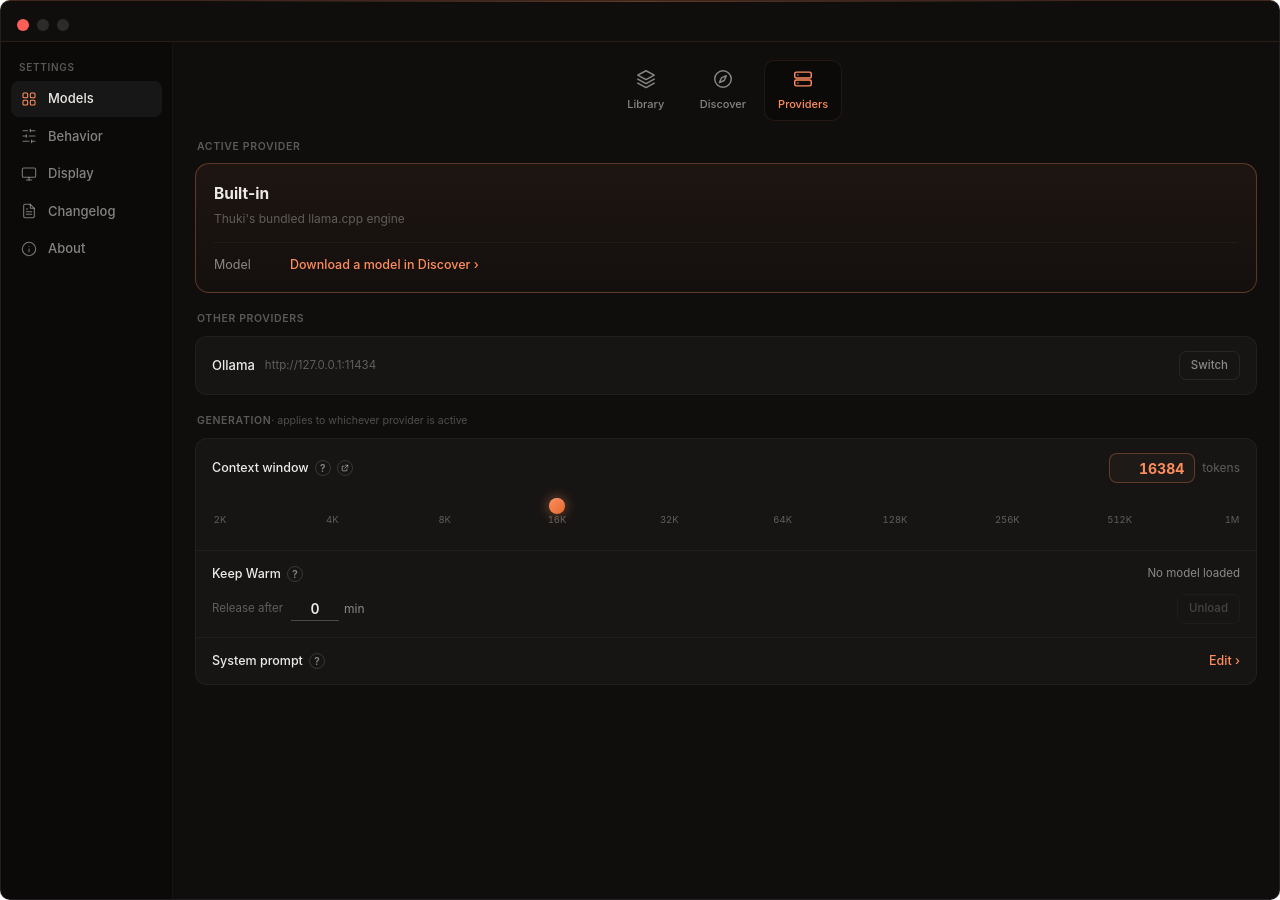
it: SettingsWindow › opens Discover without crashing the Settings window
Expected: the tab "Models" is shown, [11, 81, 162, 116]
Click the tab "Discover" at [723, 90], box [686, 60, 760, 120]
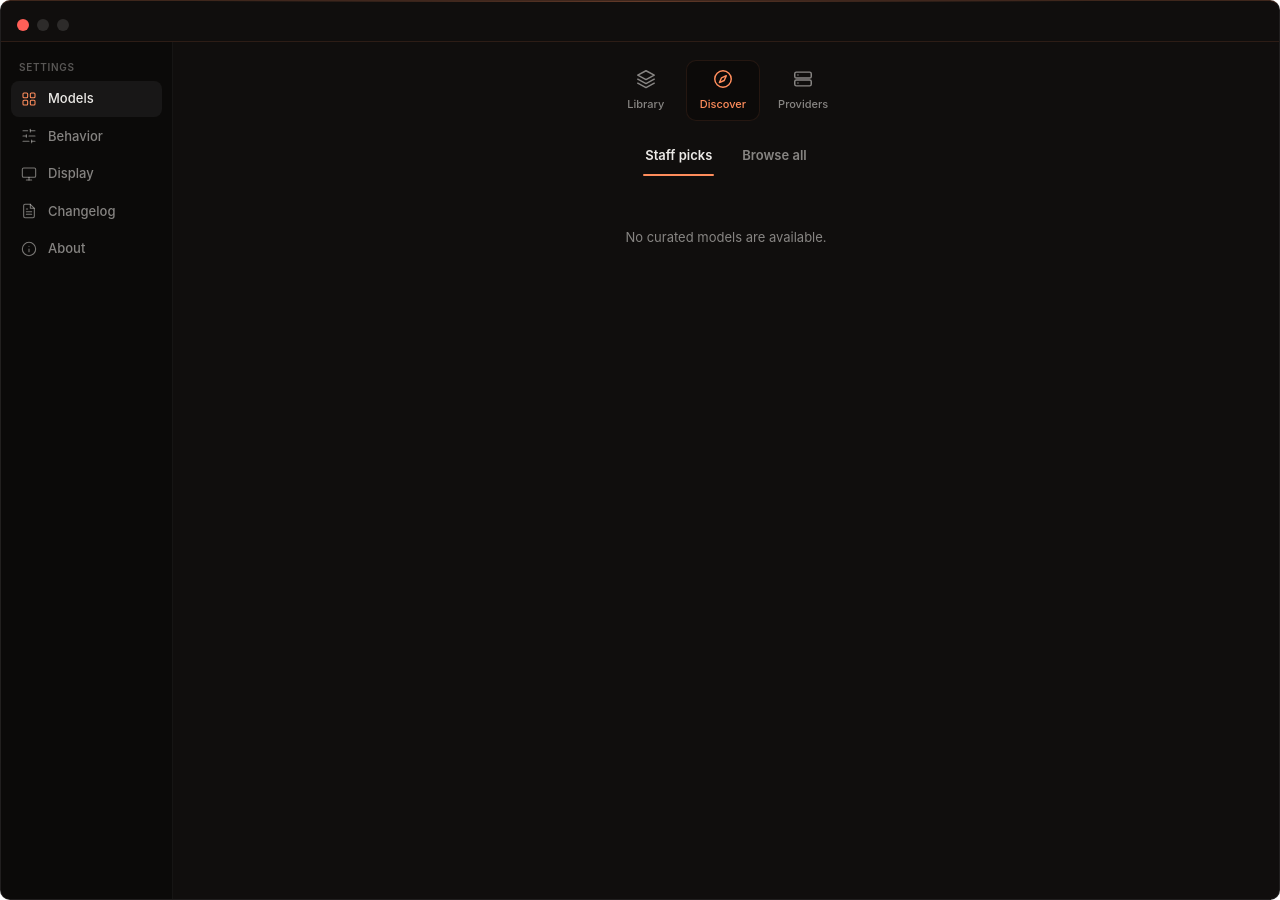
Result: the tab "Staff picks" is shown at [643, 138, 714, 176]
